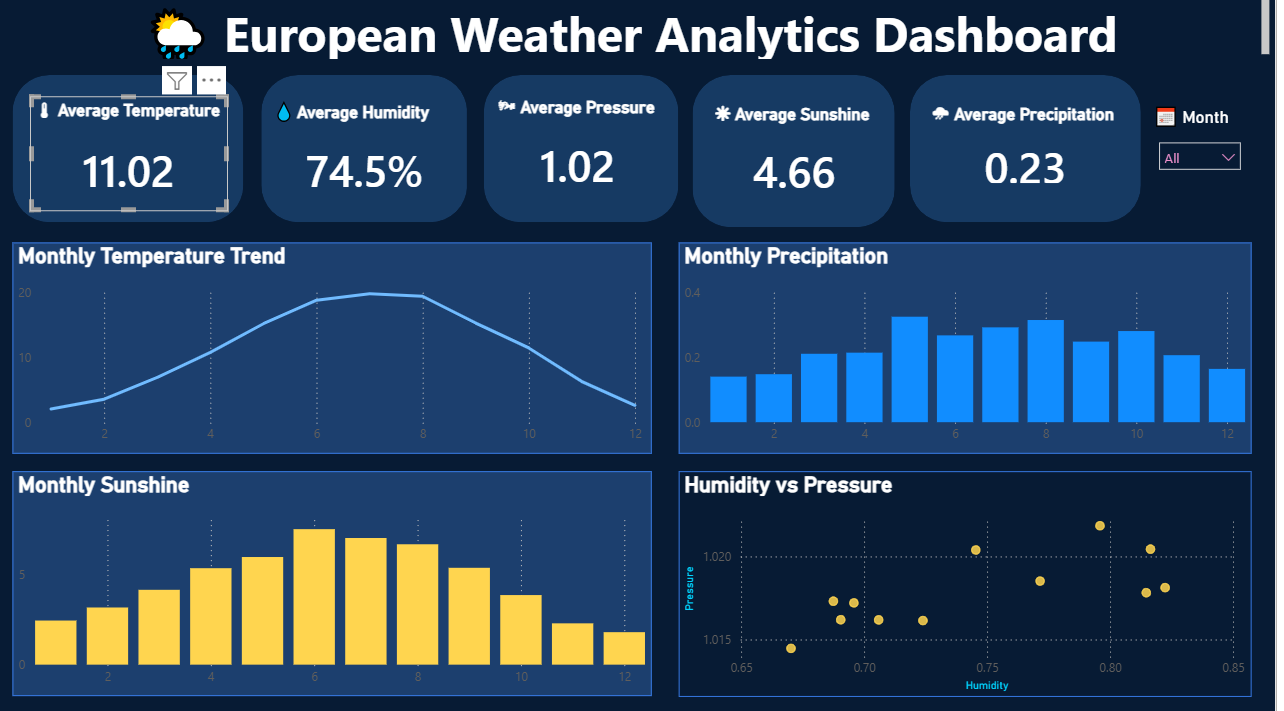

Layout of this report page (visuals, bound fields, positions):
{"tool":"powerbi","page":{"name":"Page 1","canvas":[1280,720],"ordinal":0},"visuals":[{"type":"textbox","box":[0,0,1280,68.8],"z":0},{"type":"shape","box":[17.5,79.9,230.8,147.2],"z":1000},{"type":"cardVisual","title":"🌡 Average Temperature","fields":{"Data":["Avg(weather_prediction_dataset.BASEL_temp_mean)"]},"box":[34.9,101.1,197.2,114.8],"z":4000},{"type":"shape","box":[265.8,79.9,205.9,147.2],"z":9000},{"type":"shape","box":[489.1,79.9,194.7,147.2],"z":10000},{"type":"cardVisual","title":"💧 Average Humidity","fields":{"Data":["Avg(weather_prediction_dataset.BASEL_humidity)"]},"box":[274.5,102.3,189.7,111.1],"z":10001},{"type":"cardVisual","title":"🌬 Average Pressure","fields":{"Data":["Avg(weather_prediction_dataset.BASEL_pressure)"]},"box":[497.9,97.3,171,111.1],"z":10002},{"type":"shape","box":[697.5,79.9,202.1,152.2],"z":10003},{"type":"shape","box":[914.6,79.9,230.8,147.2],"z":10004},{"type":"cardVisual","title":"☀ Average Sunshine","fields":{"Data":["Avg(weather_prediction_dataset.BASEL_sunshine)"]},"box":[715,104.8,168.5,107.3],"z":10005},{"type":"cardVisual","title":"🌧 Average Precipitation","fields":{"Data":["Avg(weather_prediction_dataset.BASEL_precipitation)"]},"box":[930.9,104.8,198.4,101.1],"z":10006},{"type":"lineChart","title":"Monthly Temperature Trend","fields":{"Y":["Avg(weather_prediction_dataset.BASEL_temp_mean)"],"Category":["weather_prediction_dataset.MONTH"]},"box":[17.5,247.1,638.9,210.9],"z":10007},{"type":"clusteredColumnChart","title":"Monthly Precipitation","fields":{"Category":["weather_prediction_dataset.MONTH"],"Y":["Avg(weather_prediction_dataset.BASEL_precipitation)"]},"box":[683.8,247.1,572.7,210.9],"z":10008},{"type":"clusteredColumnChart","title":"Monthly Sunshine","fields":{"Category":["weather_prediction_dataset.MONTH"],"Y":["Avg(weather_prediction_dataset.BASEL_sunshine)"]},"box":[17.5,476.7,638.9,224.6],"z":10009},{"type":"scatterChart","title":"Humidity vs Pressure","fields":{"X":["Avg(weather_prediction_dataset.BASEL_humidity)"],"Y":["Avg(weather_prediction_dataset.BASEL_pressure)"],"Category":["weather_prediction_dataset.MONTH"]},"box":[683.8,476.7,572.7,225.9],"z":10010},{"type":"slicer","title":"📅 Month","fields":{"Values":["weather_prediction_dataset.MONTH"]},"box":[1154.2,107.3,102.3,91.1],"z":10011}]}

Visuals, with their boxes in screenshot pixels (x1, y1, x2, y2), scaled from the page's 1280x720 canvas onto the 1284x711 screenshot:
textbox: {"x1": 0, "y1": 0, "x2": 1283, "y2": 68}
shape: {"x1": 18, "y1": 79, "x2": 249, "y2": 224}
"🌡 Average Temperature" cardVisual: {"x1": 35, "y1": 100, "x2": 233, "y2": 213}
shape: {"x1": 267, "y1": 79, "x2": 473, "y2": 224}
shape: {"x1": 491, "y1": 79, "x2": 686, "y2": 224}
"💧 Average Humidity" cardVisual: {"x1": 275, "y1": 101, "x2": 466, "y2": 211}
"🌬 Average Pressure" cardVisual: {"x1": 499, "y1": 96, "x2": 671, "y2": 206}
shape: {"x1": 700, "y1": 79, "x2": 902, "y2": 229}
shape: {"x1": 917, "y1": 79, "x2": 1149, "y2": 224}
"☀ Average Sunshine" cardVisual: {"x1": 717, "y1": 103, "x2": 886, "y2": 209}
"🌧 Average Precipitation" cardVisual: {"x1": 934, "y1": 103, "x2": 1133, "y2": 203}
"Monthly Temperature Trend" lineChart: {"x1": 18, "y1": 244, "x2": 658, "y2": 452}
"Monthly Precipitation" clusteredColumnChart: {"x1": 686, "y1": 244, "x2": 1260, "y2": 452}
"Monthly Sunshine" clusteredColumnChart: {"x1": 18, "y1": 471, "x2": 658, "y2": 693}
"Humidity vs Pressure" scatterChart: {"x1": 686, "y1": 471, "x2": 1260, "y2": 694}
"📅 Month" slicer: {"x1": 1158, "y1": 106, "x2": 1260, "y2": 196}
